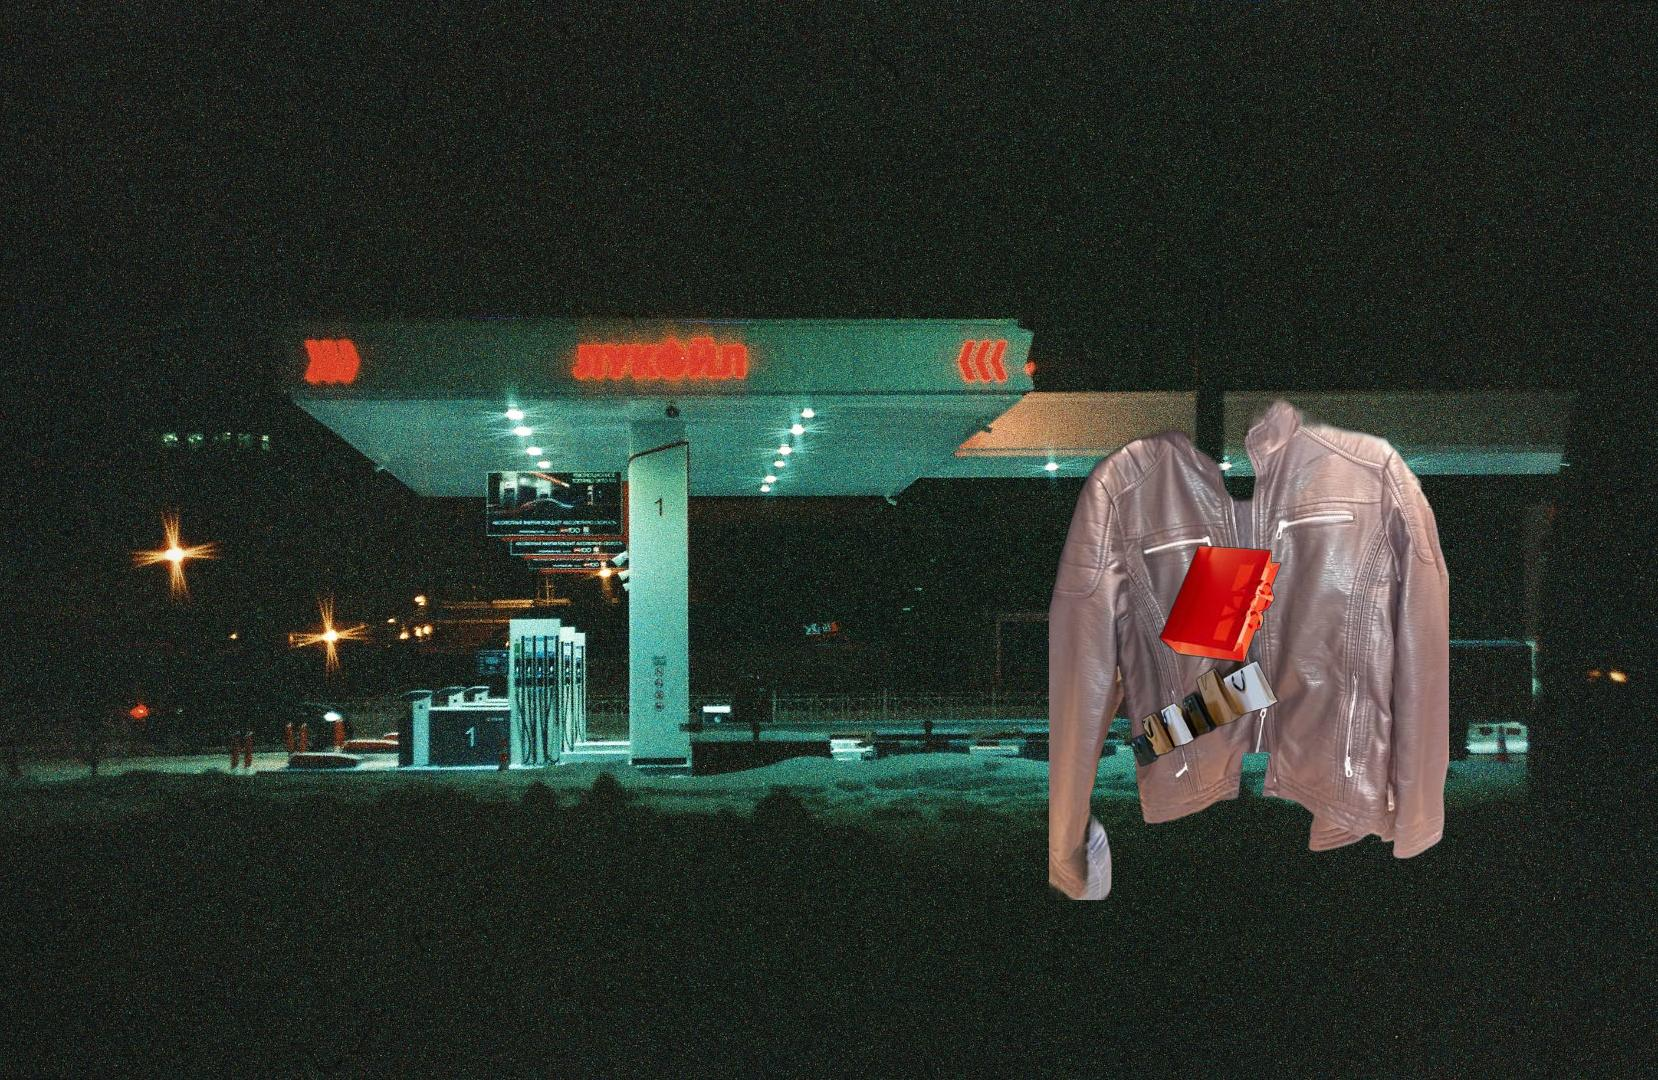clothes: (1049, 367, 1449, 900)
paper-bag: (1127, 545, 1283, 770)
penholder: (1149, 1071, 1658, 1080)
